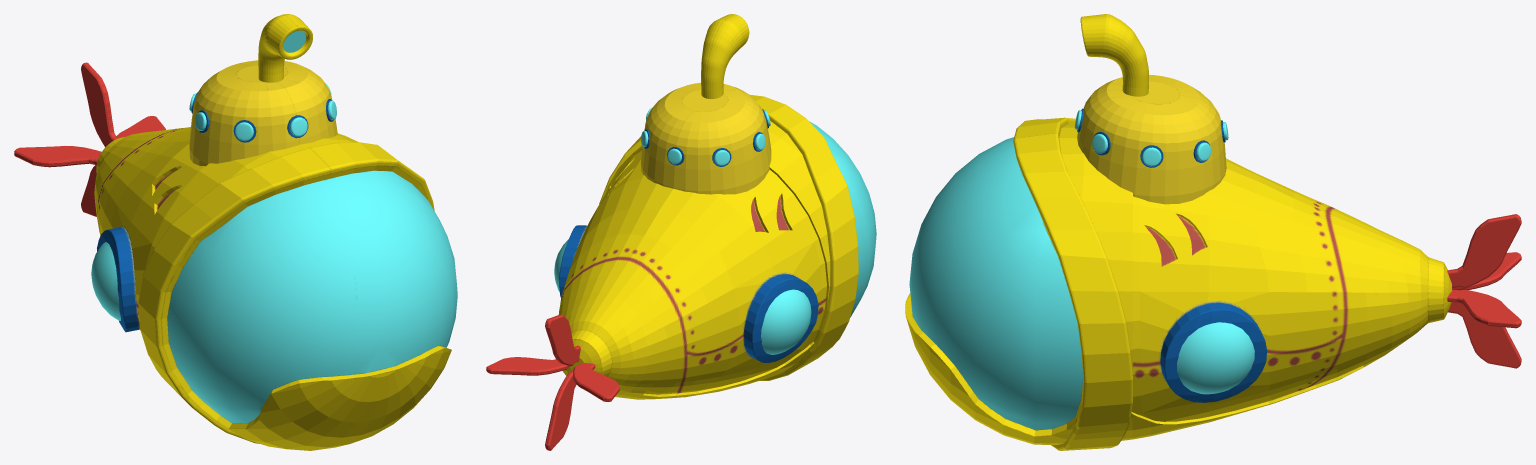
Rendered from SubmarinoDef.fbx.
3 renders of one model, left to right at view 1: azimuth 30°, elevation 25°; view 2: azimuth 150°, elevation 25°; view 3: azimuth 270°, elevation 25°, orthographic. The views are drawn at different scales.
Parts seen in each view (by area): view 1: SubmarinoBase, CaboSuperior, Helices, Mirador, VentanaSubmarino, VentanasCabo; view 2: SubmarinoBase, CaboSuperior, Helices, VentanaSubmarino, Mirador, VentanasCabo; view 3: SubmarinoBase, CaboSuperior, Helices, VentanaSubmarino, Mirador, VentanasCabo.
Boxes of the visible parts, <box> form: SubmarinoBase: <box>94,127,457,450</box>; CaboSuperior: <box>189,60,337,166</box>; Helices: <box>14,62,165,216</box>; Mirador: <box>258,14,312,82</box>; VentanaSubmarino: <box>91,242,120,320</box>; VentanasCabo: <box>189,83,336,142</box>; SubmarinoBase: <box>558,94,876,399</box>; CaboSuperior: <box>641,82,771,194</box>; Helices: <box>486,314,619,450</box>; VentanaSubmarino: <box>554,239,811,354</box>; Mirador: <box>701,14,749,98</box>; VentanasCabo: <box>641,107,770,166</box>; SubmarinoBase: <box>905,117,1451,450</box>; CaboSuperior: <box>1077,74,1226,204</box>; Helices: <box>1447,214,1521,368</box>; VentanaSubmarino: <box>1177,322,1254,394</box>; Mirador: <box>1080,14,1148,96</box>; VentanasCabo: <box>1074,108,1228,167</box>.
Size of the model in its own units: 196 by 272 by 363.
1 material, 1 textured.
